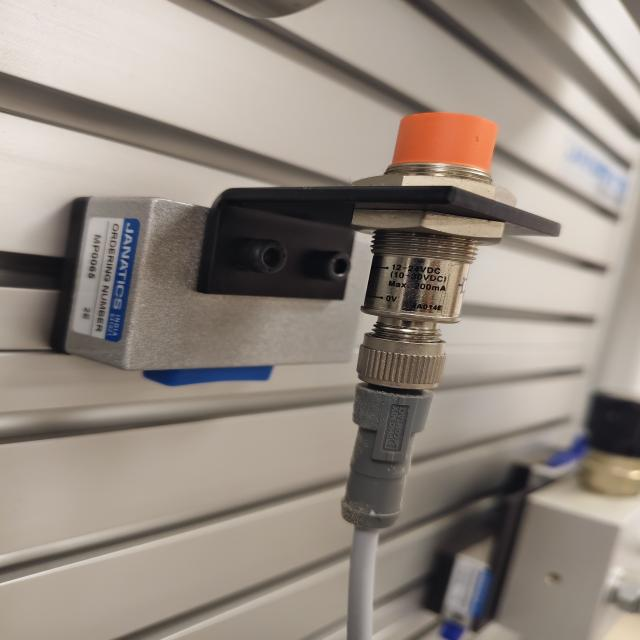inductive sensor: (62, 99, 566, 532)
